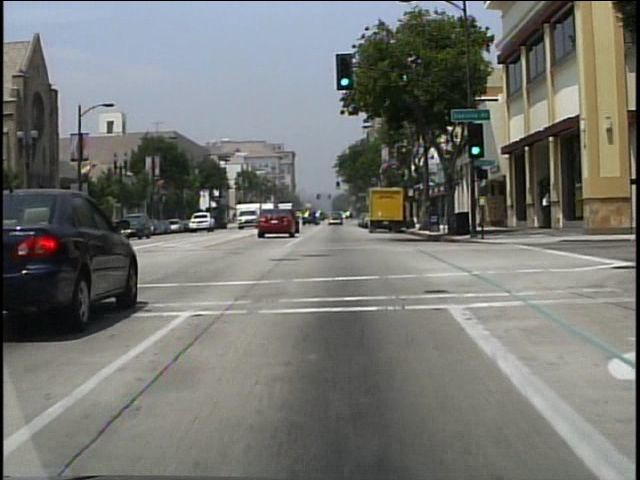person: (540, 192, 551, 229)
